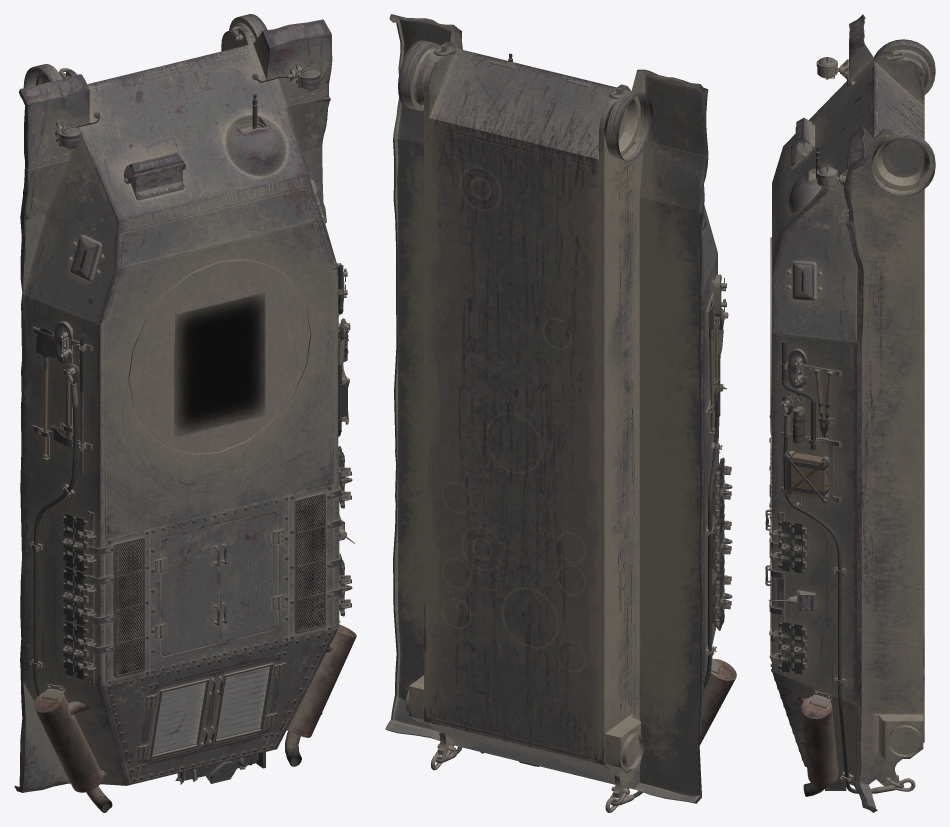
Rendered from Hull.glb.
3 renders of one model, left to right at view 1: azimuth 30°, elevation 25°; view 2: azimuth 150°, elevation 25°; view 3: azimuth 270°, elevation 25°, orthographic. The views are drawn at different scales.
Parts seen in each view (by area): view 1: set_0_group_0; view 2: set_0_group_0; view 3: set_0_group_0.
Boxes of the visible parts, x1,y1,x2,y2 form: set_0_group_0: [14, 14, 356, 812]; set_0_group_0: [385, 14, 736, 812]; set_0_group_0: [765, 14, 935, 812].
Size of the model in its own units: 2.91 by 6.34 by 1.43.
Materials: 1 (1 with a texture image).
